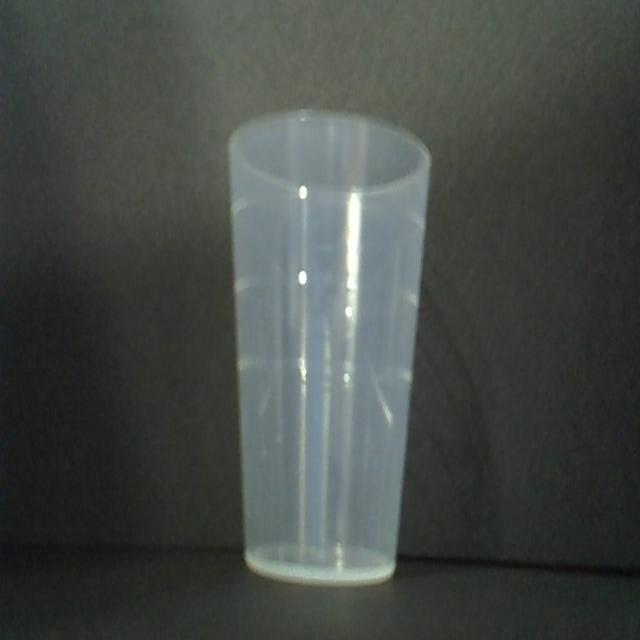cup: (225, 107, 432, 588)
